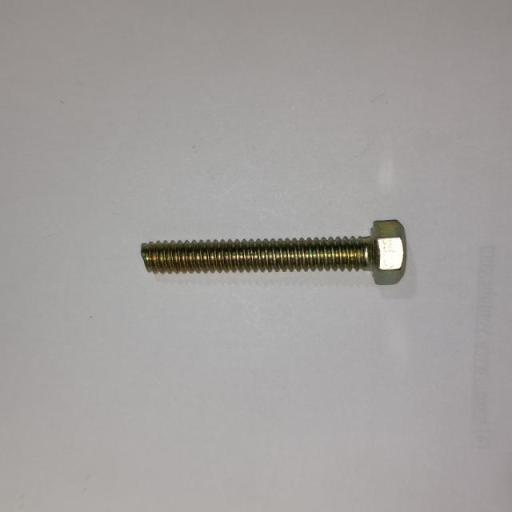Bolt: (139, 218, 407, 286)
